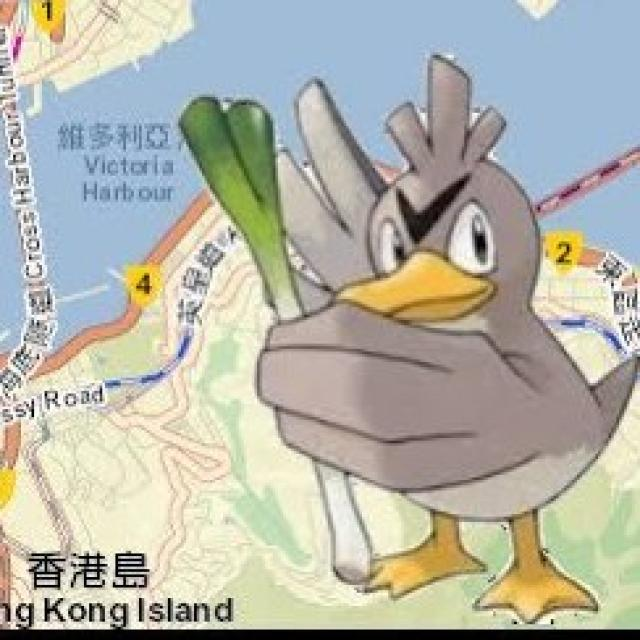Farfetchd: (247, 55, 614, 597)
